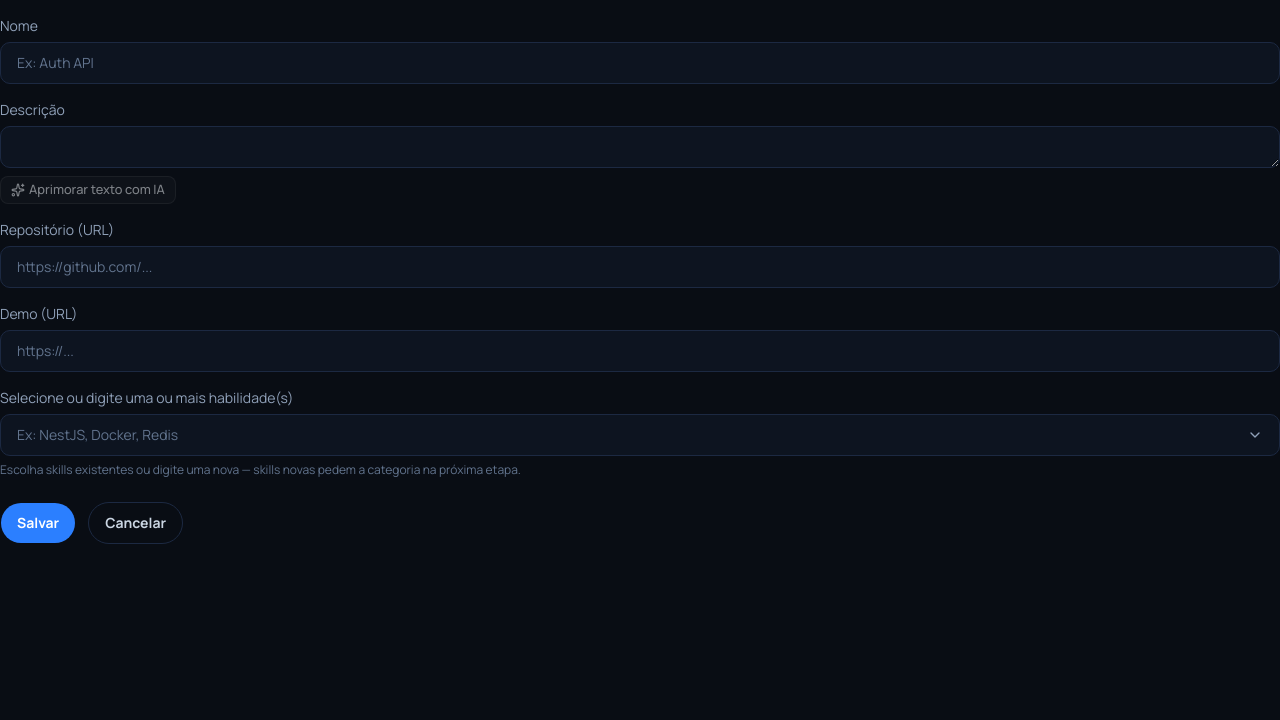
Scenario: ProjectForm › applies an AI suggestion to the project description only on confirmation
Type "API de autenticação com JWT." into the text box labelled "Descrição" at (640,147), box [0, 126, 1279, 168]
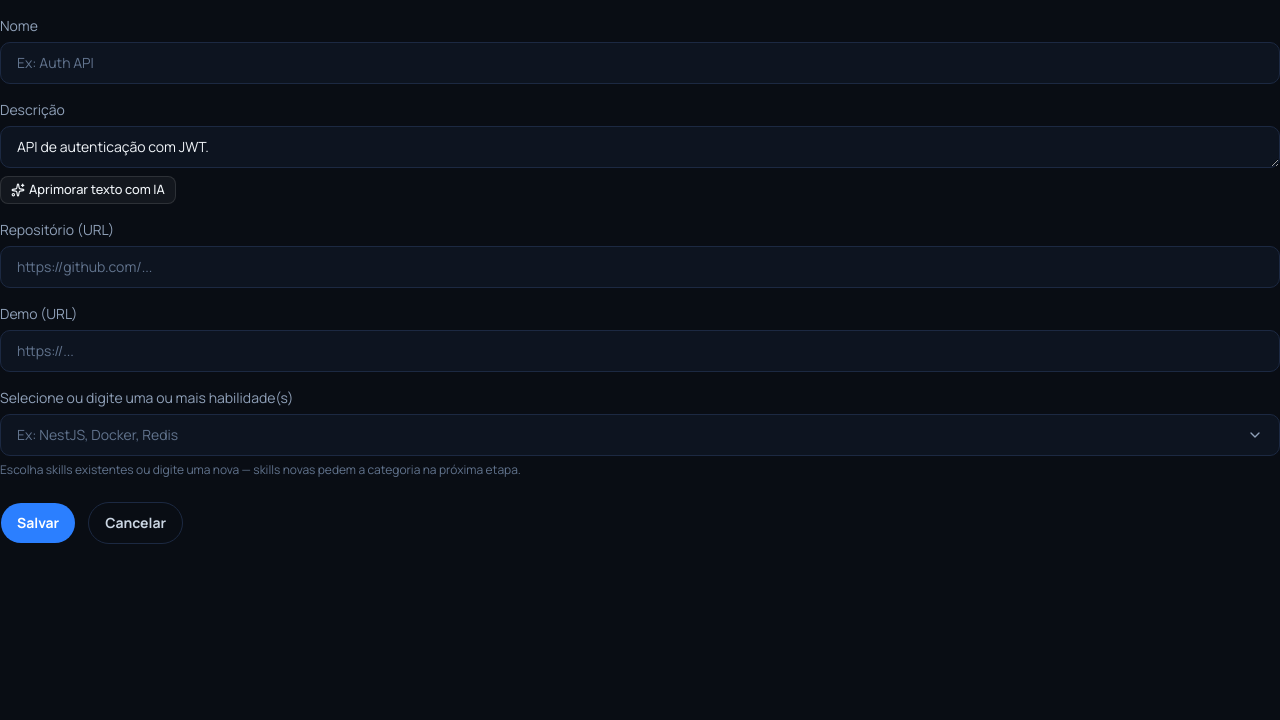
Click the button "Aprimorar texto com IA" at (88,190), box [0, 176, 176, 204]
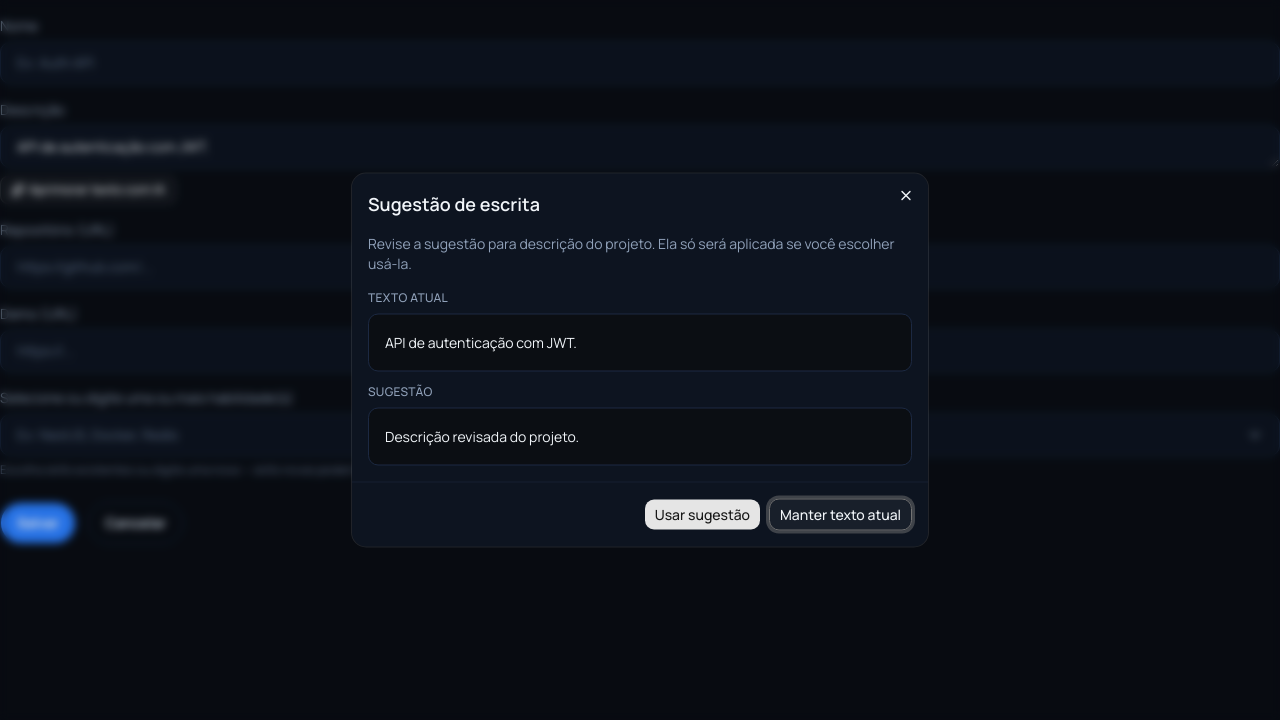
Check: the text "Descrição revisada do projeto." is shown, box [368, 408, 912, 466]
Click the button "Usar sugestão" at (702,514), box [644, 498, 761, 530]
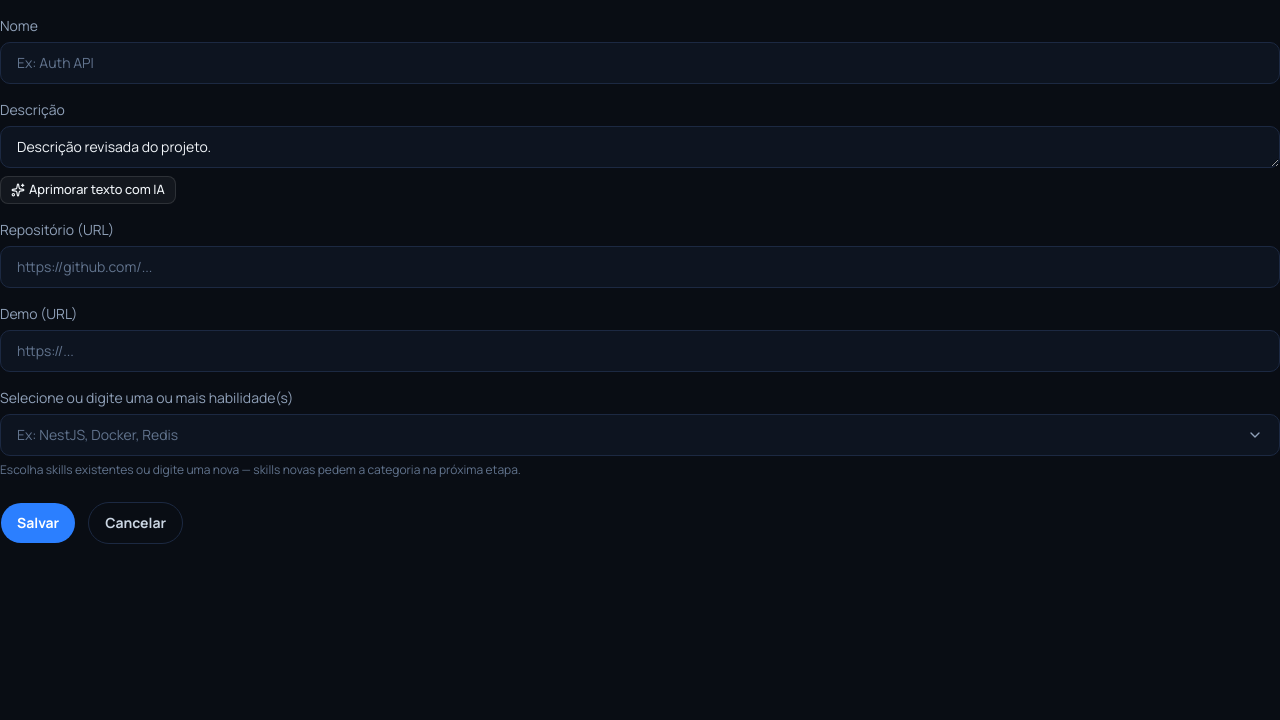
Check: the text box labelled "Descrição" holds "Descrição revisada do projeto.", box [0, 126, 1279, 168]
